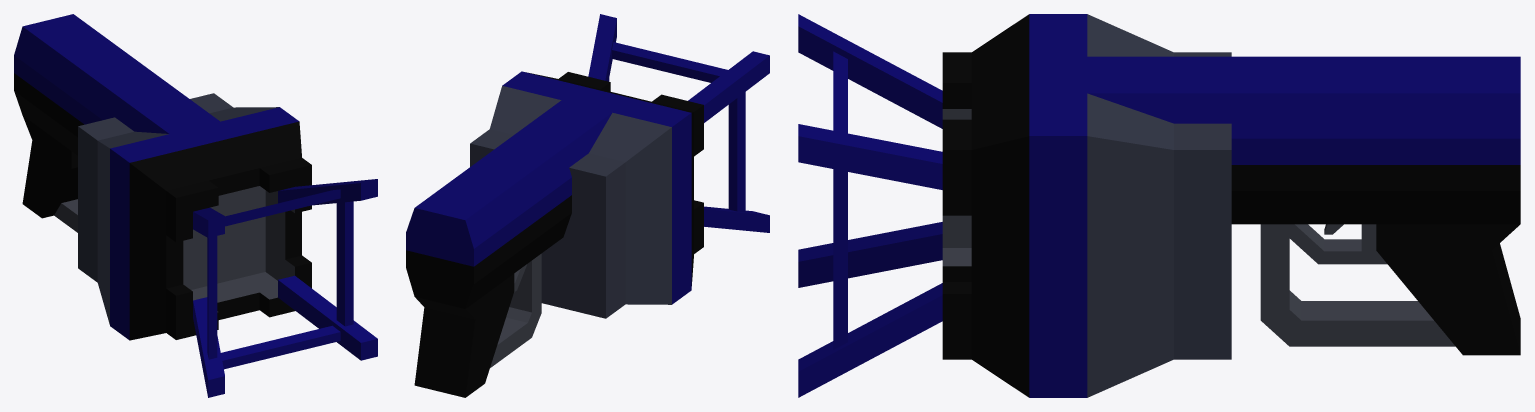
File: GrapplinHook.obj
The picture shows the model from 3 angles, left to right: view 1: azimuth 30°, elevation 25°; view 2: azimuth 150°, elevation 25°; view 3: azimuth 270°, elevation 25°; orthographic projection. The views are drawn at different scales.
Visible parts, largest first — view 1: mergedBlocks; view 2: mergedBlocks; view 3: mergedBlocks.
Part boxes in pixels (left/top/right/bottom): mergedBlocks: left=14, top=14, right=377, bottom=397; mergedBlocks: left=406, top=14, right=769, bottom=397; mergedBlocks: left=798, top=14, right=1520, bottom=397.
Bounding box in the file's own units: 1 × 1 × 2.5.
